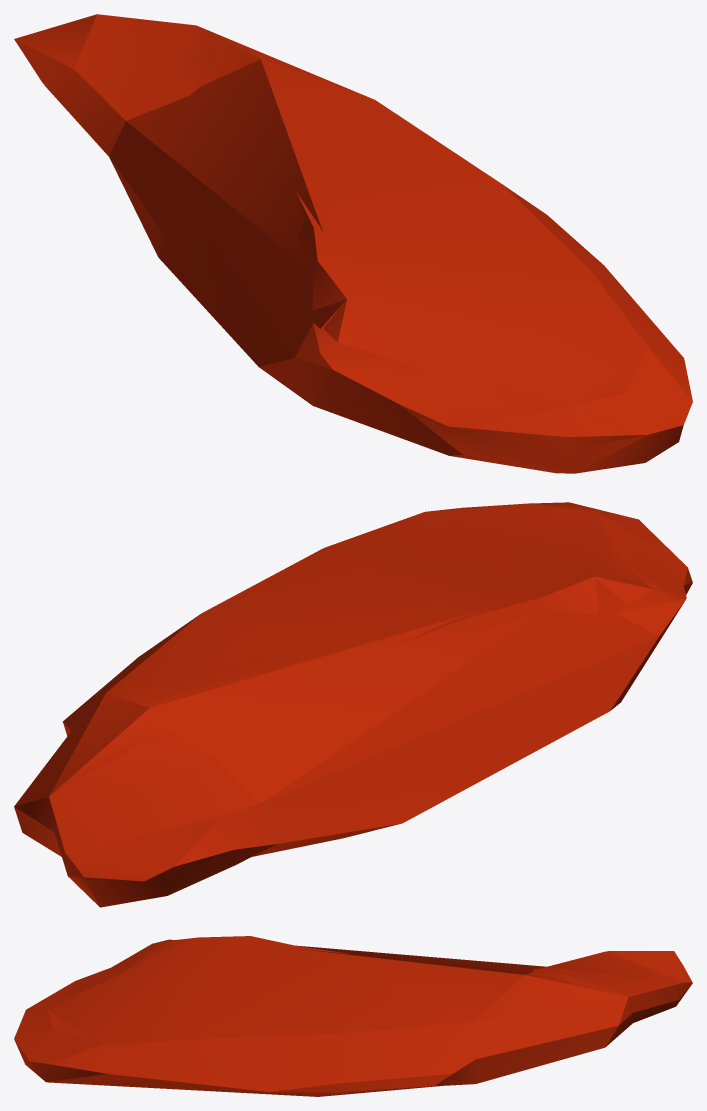
Rendered from SM_Sharp_Rock_01.fbx.
3 views of the same model, one above another, from view 1: azimuth 30°, elevation 25°; view 2: azimuth 150°, elevation 25°; view 3: azimuth 270°, elevation 25° (orthographic). The views are drawn at different scales.
Visible parts, largest first — view 1: SM_Sharp_Rock_01, SM_Sharp_Rock_01_col; view 2: SM_Sharp_Rock_01, SM_Sharp_Rock_01_col; view 3: SM_Sharp_Rock_01, SM_Sharp_Rock_01_col.
Part boxes in pixels (x1,y1,x2,y2): SM_Sharp_Rock_01: (14,14,692,473); SM_Sharp_Rock_01_col: (109,59,648,473); SM_Sharp_Rock_01: (14,503,692,907); SM_Sharp_Rock_01_col: (84,502,659,895); SM_Sharp_Rock_01: (14,936,692,1096); SM_Sharp_Rock_01_col: (14,938,692,1085).
Size of the model in its own units: 245 by 98.26 by 592.
